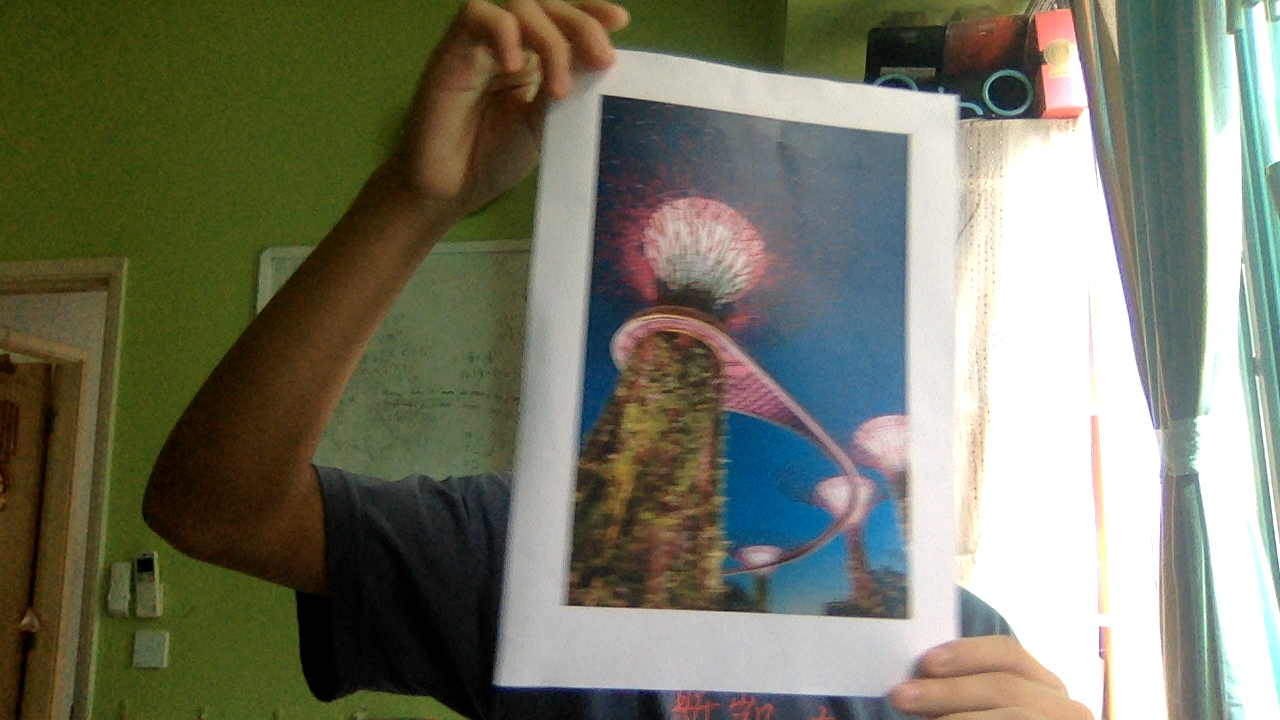GBTB: (558, 76, 927, 637)
